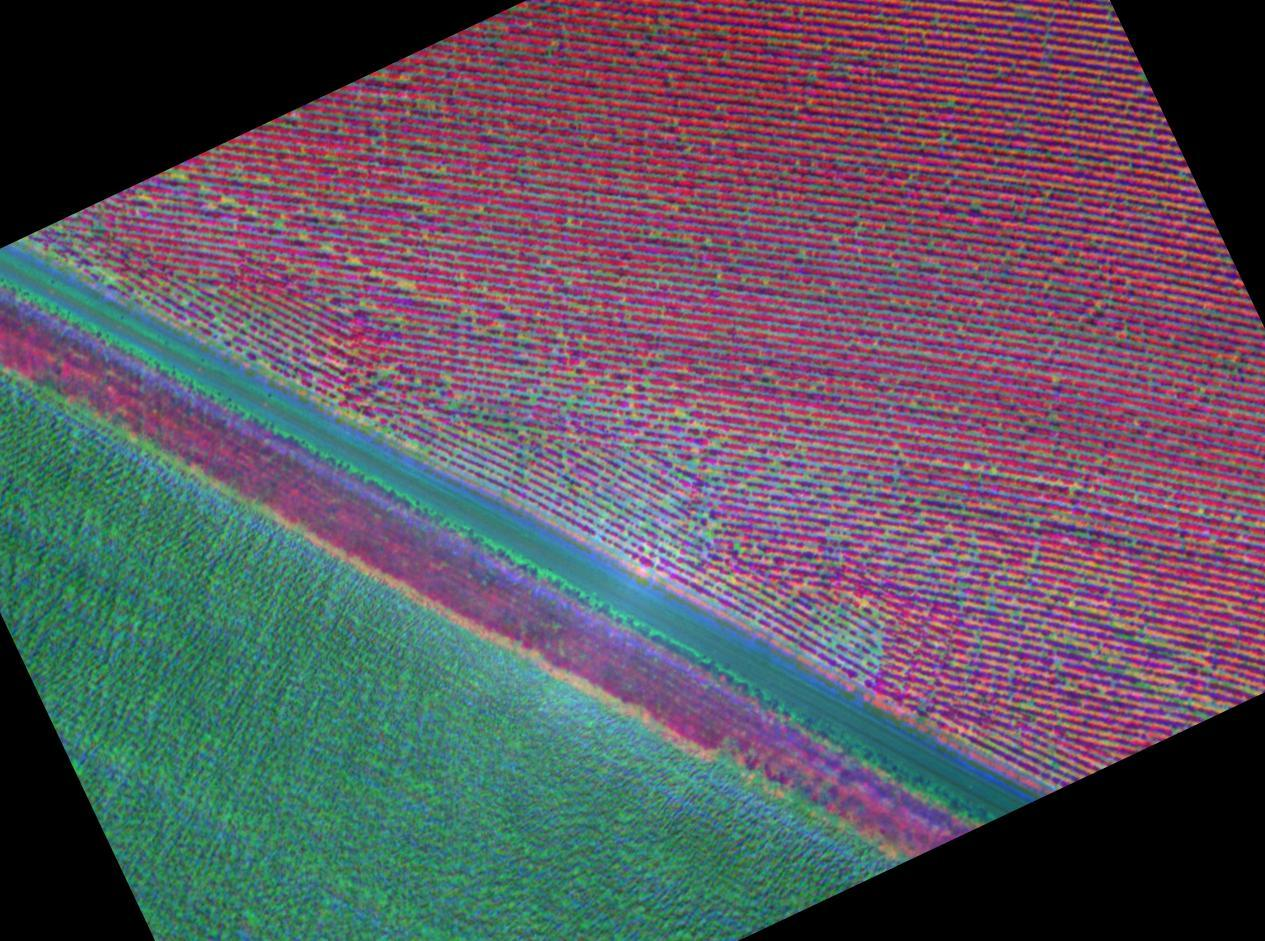dc: (1143, 637, 1148, 643), (775, 463, 779, 468), (677, 412, 681, 416), (824, 482, 828, 486), (915, 502, 919, 506), (1033, 552, 1037, 556), (701, 427, 704, 430)
